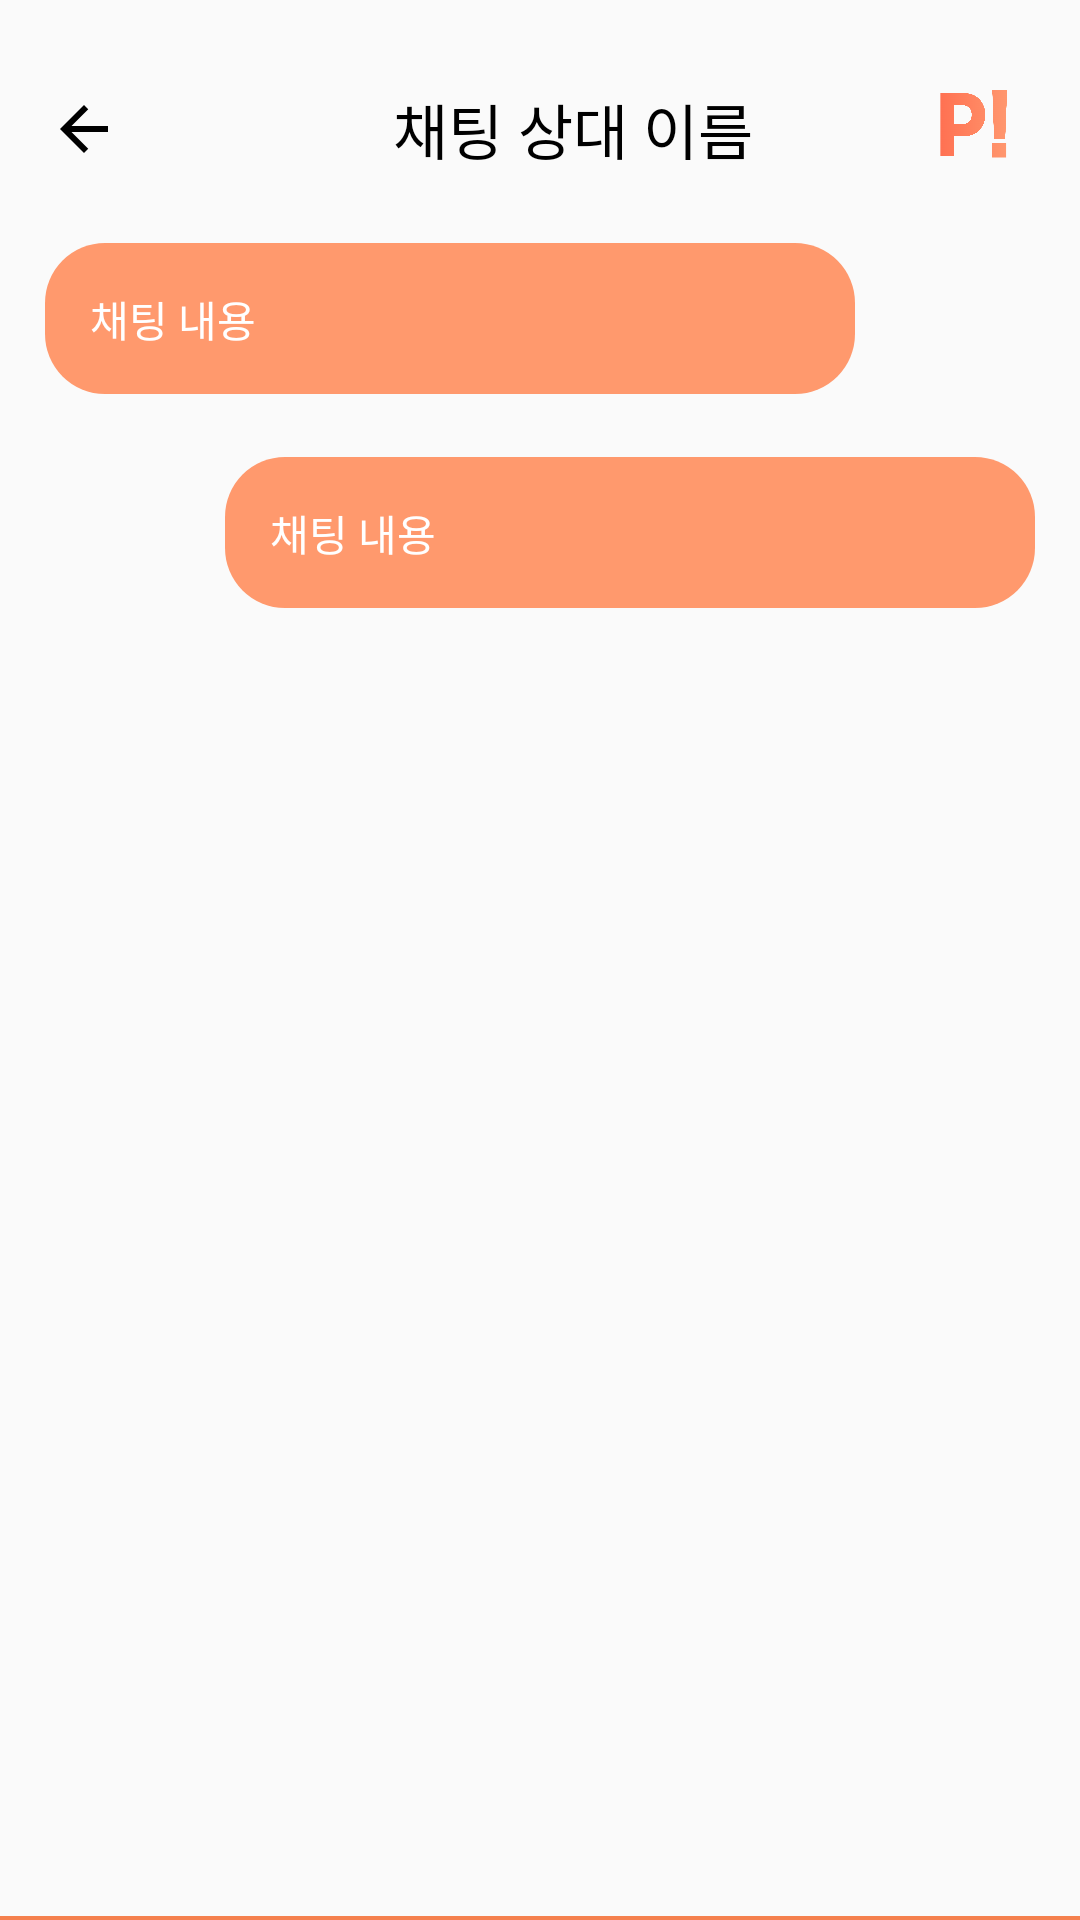

Screen size 1080w x 1920h. Icon name, then its center in pixels as (x=x, y=y):
back arrow: (x=84, y=129)
